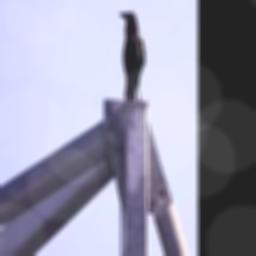Crow: (118, 12, 145, 102)
